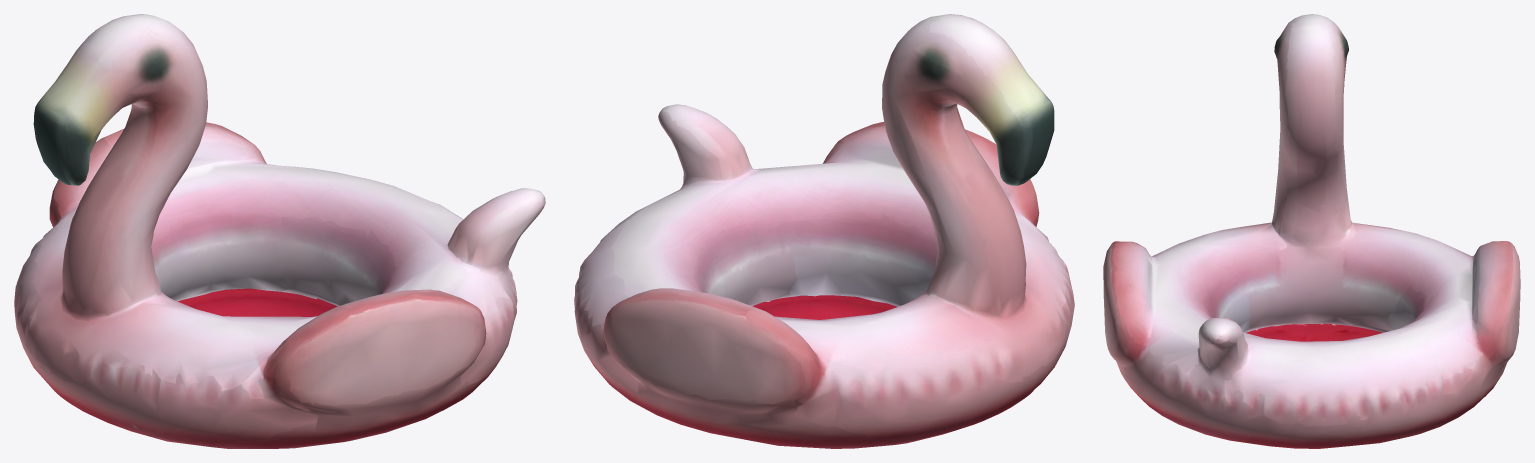
The model's file is flamingo.glb.
The picture shows the model from 3 angles, left to right: view 1: azimuth 30°, elevation 25°; view 2: azimuth 150°, elevation 25°; view 3: azimuth 270°, elevation 25°; orthographic projection. The views are drawn at different scales.
Visible parts, largest first — view 1: tmps6216ruy.ply; view 2: tmps6216ruy.ply; view 3: tmps6216ruy.ply.
Boxes of the visible parts, <box> form: tmps6216ruy.ply: <box>14,14,545,448</box>; tmps6216ruy.ply: <box>574,14,1074,448</box>; tmps6216ruy.ply: <box>1103,14,1520,448</box>.
Size of the model in its own units: 0.9859 by 0.8061 by 0.9863.
1 material, 1 textured.
